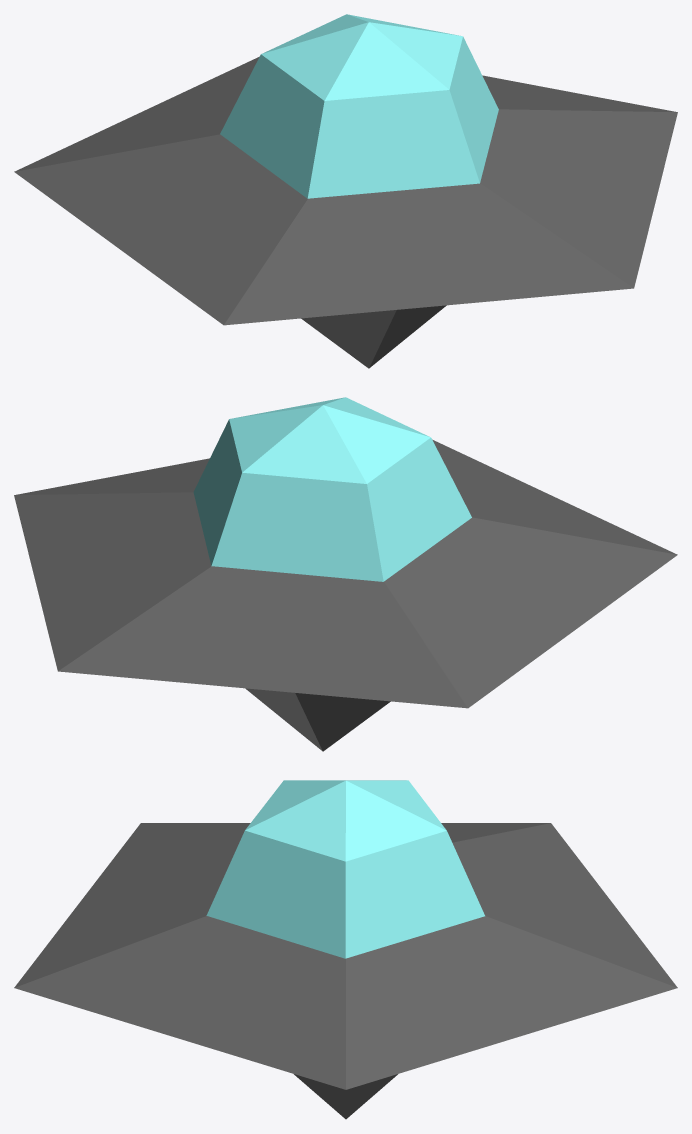
The model's file is SpaceShip2.fbx.
The picture shows the model from 3 angles, top to bottom: view 1: azimuth 30°, elevation 25°; view 2: azimuth 150°, elevation 25°; view 3: azimuth 270°, elevation 25°; orthographic projection. The views are drawn at different scales.
Parts seen in each view (by area): view 1: Sphere; view 2: Sphere; view 3: Sphere.
Boxes of the visible parts, x1,y1,x2,y2 form: Sphere: (14, 14, 677, 368); Sphere: (14, 397, 677, 751); Sphere: (14, 780, 677, 1119).
Size of the model in its own units: 296 by 175 by 311.
